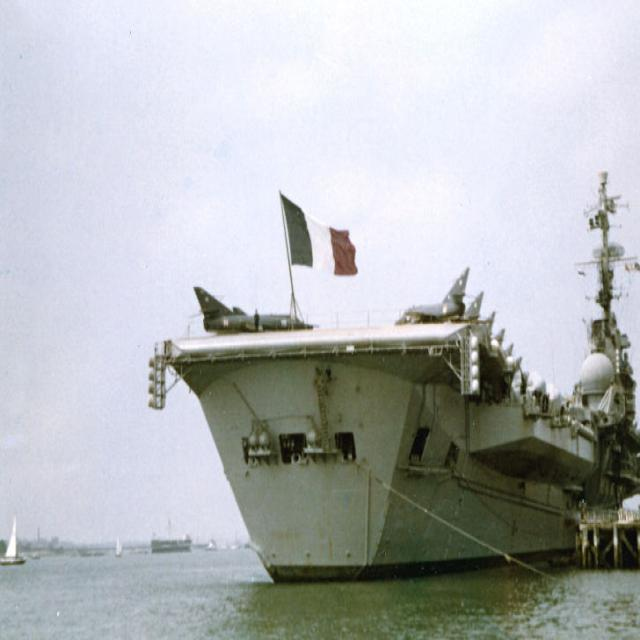Portanaves: (158, 145, 640, 590)
